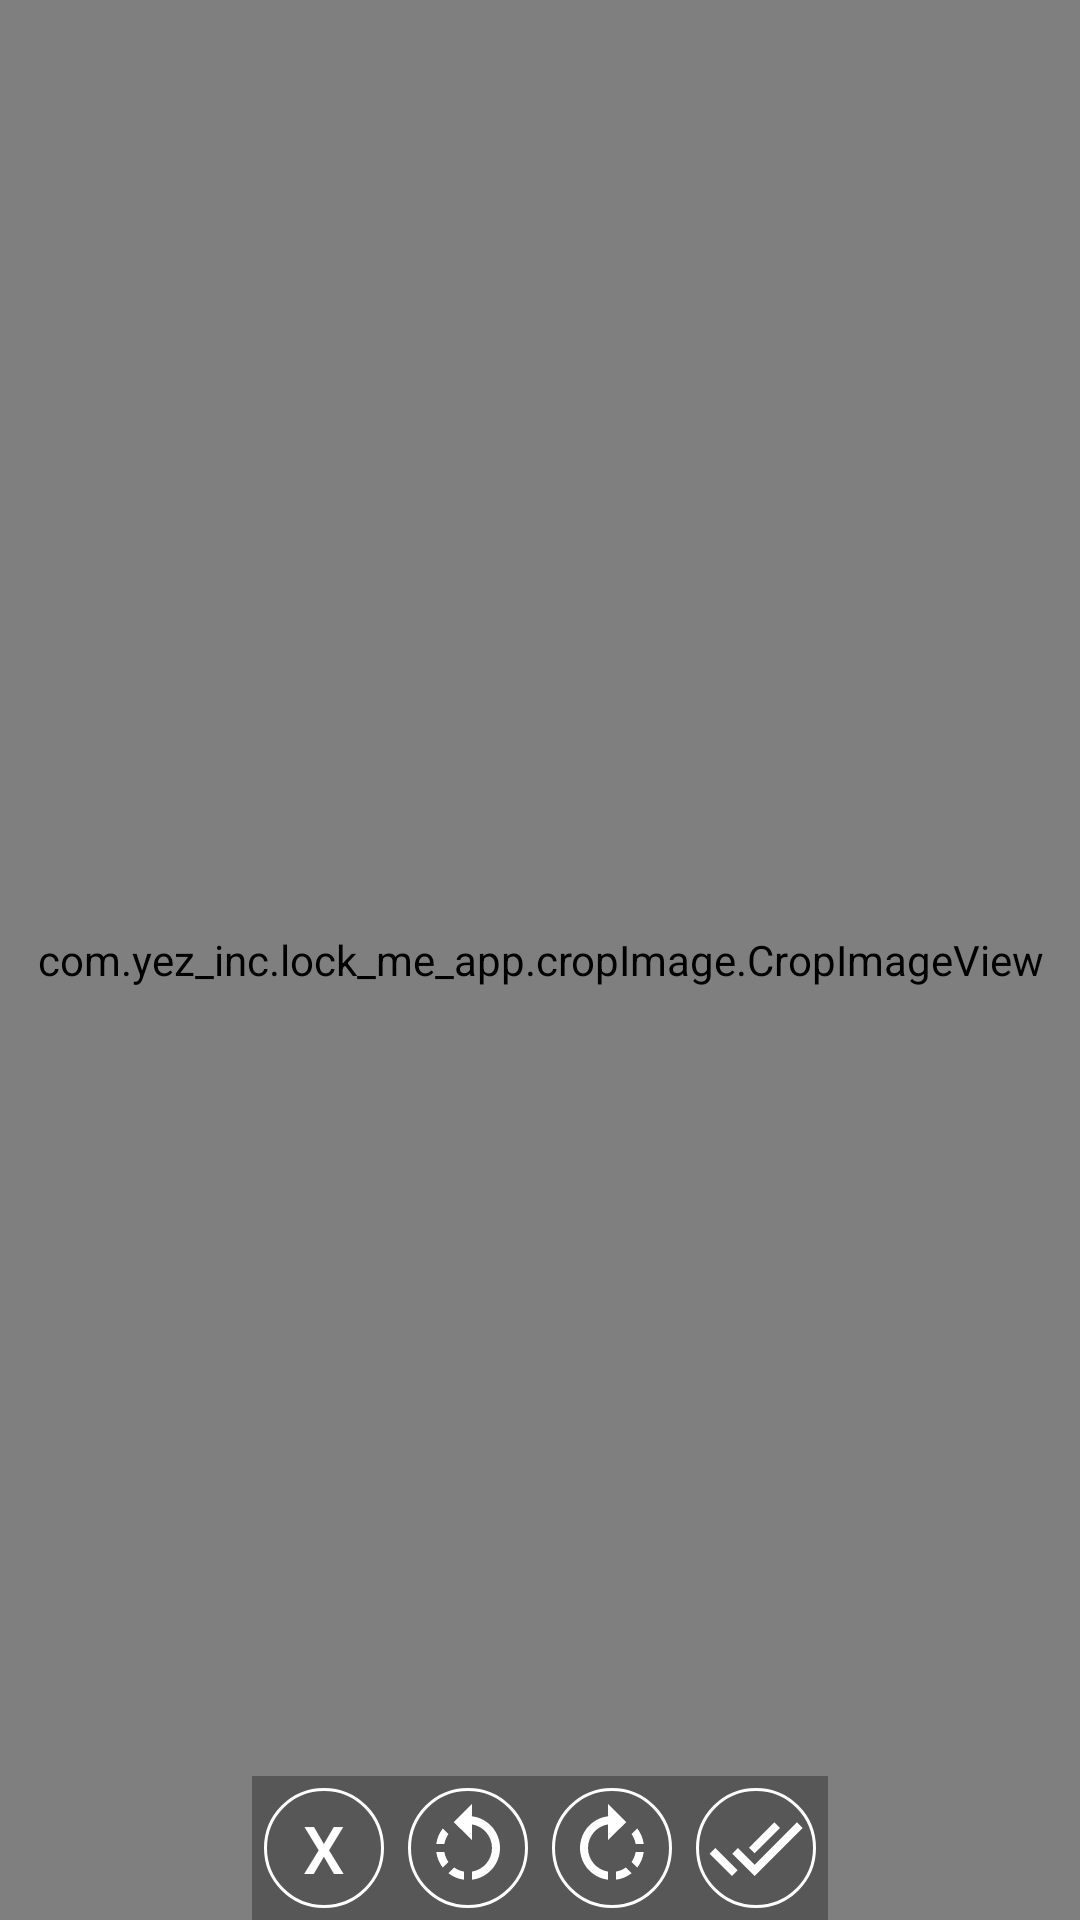

Icons on this 1080w x 1920h Android screen, each with the point to tap as (x=x, y=y):
done all: (x=756, y=1848)
rotate left: (x=468, y=1848)
rotate right: (x=612, y=1848)
